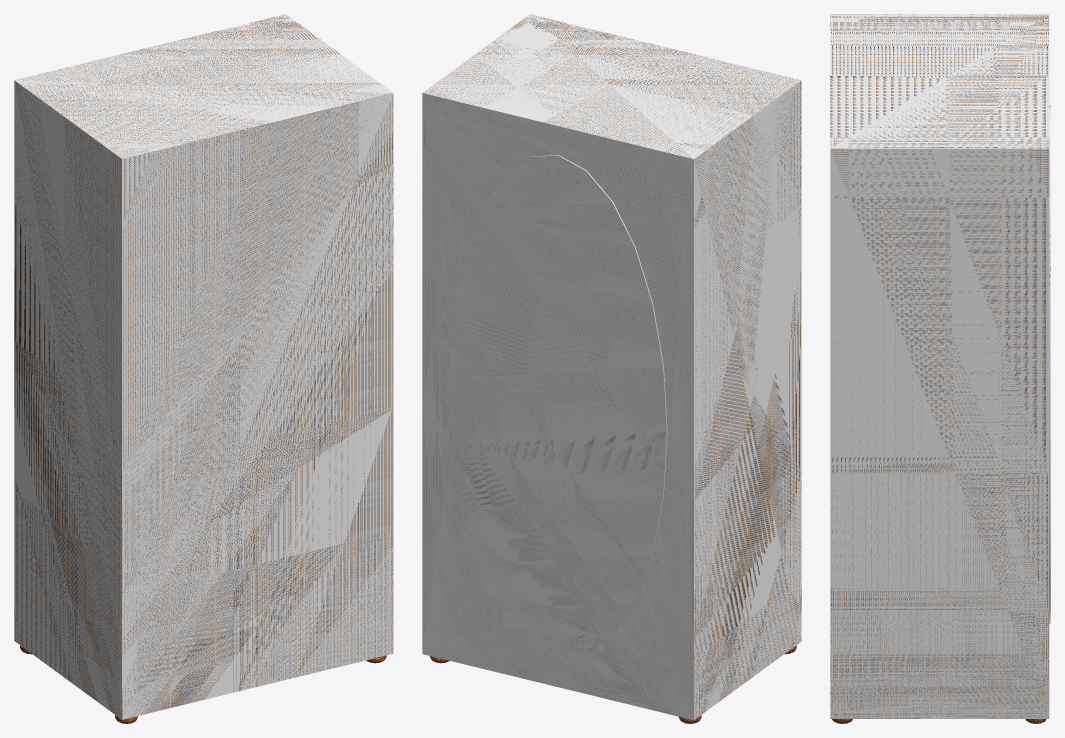
The picture shows the model from 3 angles, left to right: view 1: azimuth 30°, elevation 25°; view 2: azimuth 150°, elevation 25°; view 3: azimuth 270°, elevation 25°; orthographic projection.
Parts seen in each view (by area): view 1: mesh2_mesh2-geometry; view 2: mesh2_mesh2-geometry; view 3: mesh2_mesh2-geometry.
Boxes of the visible parts, left/top/right/bottom form: mesh2_mesh2-geometry: left=14, top=14, right=393, bottom=719; mesh2_mesh2-geometry: left=422, top=14, right=801, bottom=720; mesh2_mesh2-geometry: left=830, top=14, right=1050, bottom=718.
Size of the model in its own units: 0.4273 by 0.8545 by 0.2954.
